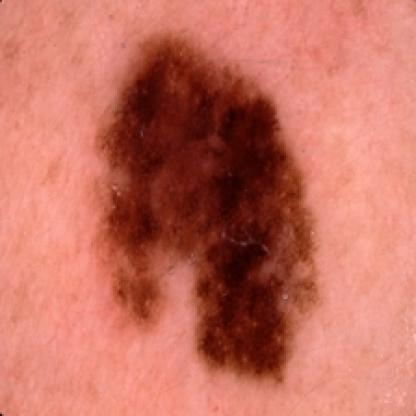Skin_Cancer-Malignant: (92, 32, 323, 386)
